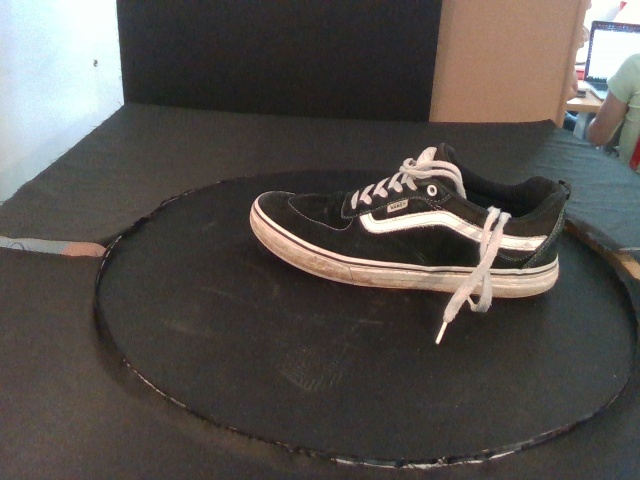shoe: (249, 142, 569, 300)
